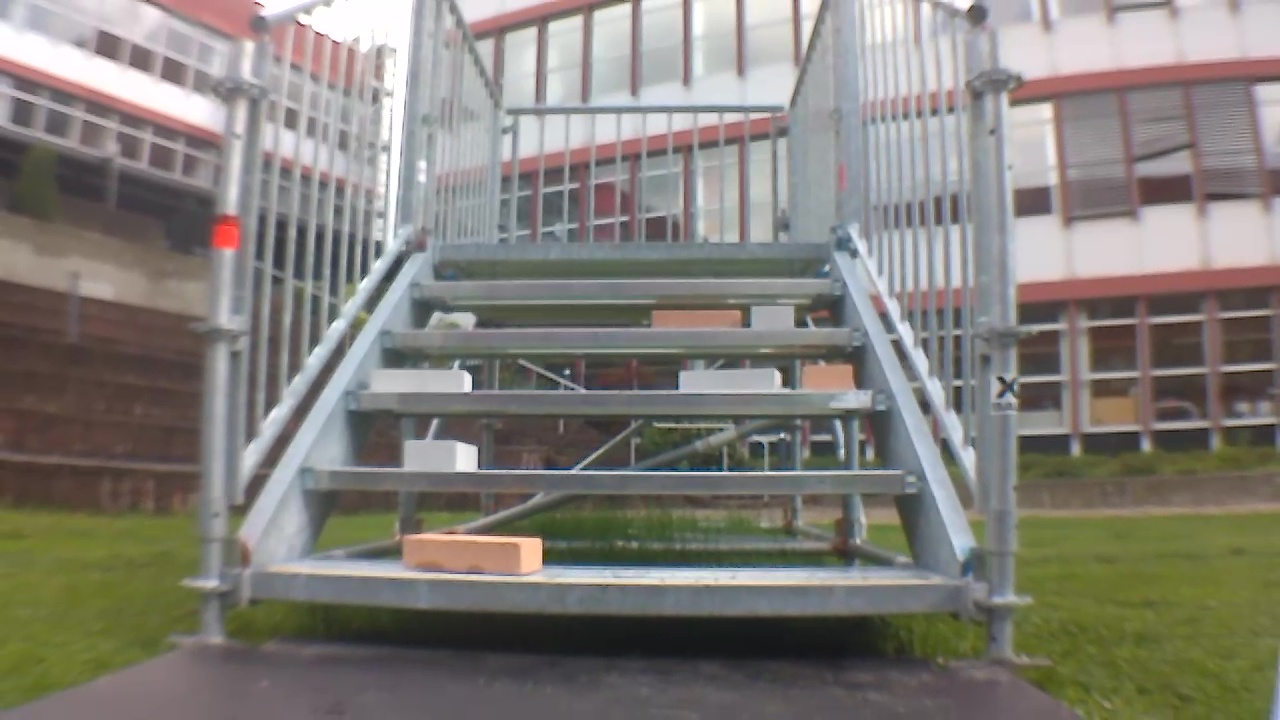brick: (404, 534, 540, 576), (678, 369, 781, 392), (403, 439, 477, 471), (371, 369, 471, 391), (652, 310, 739, 329), (804, 365, 852, 391), (752, 306, 793, 327)
edge: (251, 570, 963, 615), (300, 468, 925, 494), (347, 391, 892, 414), (381, 327, 866, 346), (409, 278, 845, 298), (436, 241, 827, 260)
stairs: (174, 3, 1046, 652)
steps: (243, 231, 967, 624)
